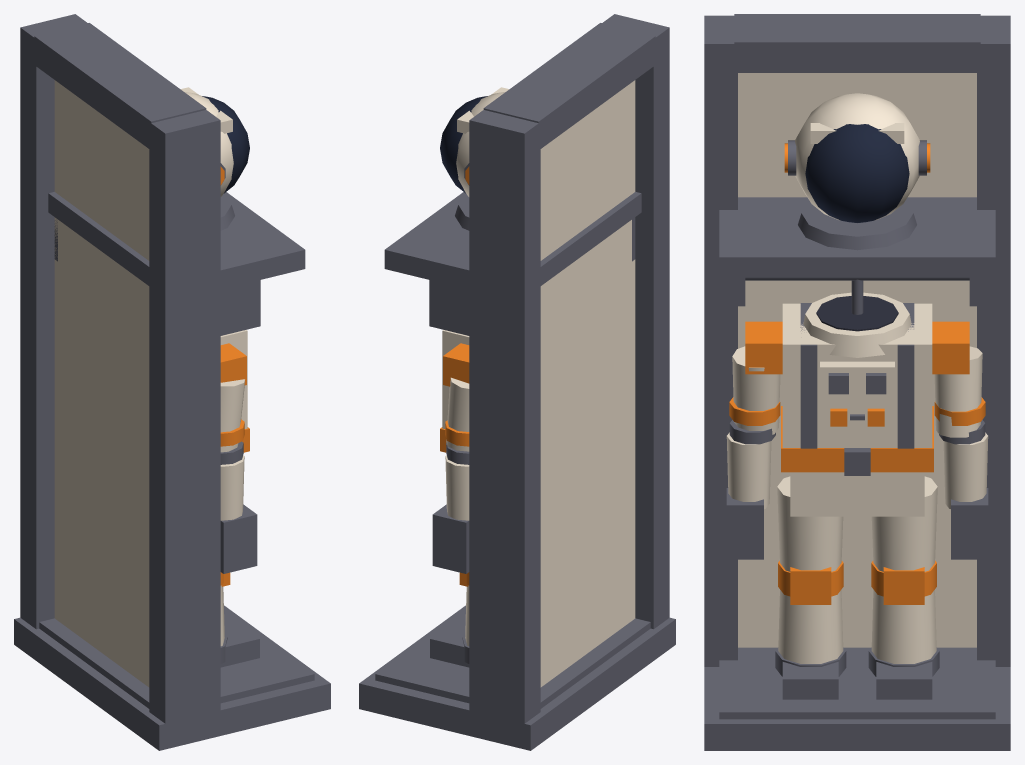
Rendered from asset.glb.
The picture shows the model from 3 angles, left to right: view 1: azimuth 30°, elevation 25°; view 2: azimuth 150°, elevation 25°; view 3: azimuth 270°, elevation 25°; orthographic projection. The views are drawn at different scales.
Visible parts, largest first — view 1: Mesh_BackPlate, Mesh_PostRight, Mesh_PostLeft, Mesh_BasePlinth, Mesh_TopCrossbar, Mesh_ShelfSlab, Mesh_BaseStep, Mesh_Glove_R, Mesh_BracketRight, Mesh_Forearm_R, Mesh_Boot_R, Mesh_UpperArm_R (+4 smaller); view 2: Mesh_BackPlate, Mesh_PostLeft, Mesh_PostRight, Mesh_BasePlinth, Mesh_TopCrossbar, Mesh_ShelfSlab, Mesh_BaseStep, Mesh_Glove_L, Mesh_BracketLeft, Mesh_Forearm_L, Mesh_Boot_L, Mesh_HelmetVisor (+4 smaller); view 3: Mesh_BackPlate, Mesh_PostRight, Mesh_PostLeft, Mesh_ShelfSlab, Mesh_TopCrossbar, Mesh_BaseStep, Mesh_BasePlinth, Mesh_SuitTorso, Mesh_HelmetVisor, Mesh_Pelvis, Mesh_HelmetShell, Mesh_ChestPack (+34 smaller).
Boxes of the visible parts, box(x1,y1,x2,y2) form: Mesh_BackPlate: box(54, 80, 149, 687); Mesh_PostRight: box(149, 110, 220, 723); Mesh_PostLeft: box(20, 14, 87, 629); Mesh_BasePlinth: box(14, 605, 330, 750); Mesh_TopCrossbar: box(34, 23, 206, 148); Mesh_ShelfSlab: box(48, 192, 305, 289); Mesh_BaseStep: box(39, 608, 314, 708); Mesh_Glove_R: box(220, 504, 257, 573); Mesh_BracketRight: box(220, 280, 260, 335); Mesh_Forearm_R: box(220, 455, 244, 520); Mesh_Boot_R: box(220, 619, 259, 667); Mesh_UpperArm_R: box(220, 379, 244, 452); Mesh_BackPlate: box(540, 80, 635, 687); Mesh_PostLeft: box(469, 110, 540, 723); Mesh_PostRight: box(602, 14, 669, 629); Mesh_BasePlinth: box(359, 605, 675, 750); Mesh_TopCrossbar: box(483, 23, 655, 148); Mesh_ShelfSlab: box(384, 192, 641, 289); Mesh_BaseStep: box(375, 608, 650, 708); Mesh_Glove_L: box(432, 504, 469, 573); Mesh_BracketLeft: box(429, 280, 469, 335); Mesh_Forearm_L: box(445, 455, 469, 520); Mesh_Boot_L: box(430, 619, 469, 667); Mesh_HelmetVisor: box(440, 96, 487, 193); Mesh_BackPlate: box(738, 73, 976, 647); Mesh_PostRight: box(704, 15, 737, 666); Mesh_PostLeft: box(977, 15, 1010, 666); Mesh_ShelfSlab: box(719, 197, 995, 277); Mesh_TopCrossbar: box(734, 14, 980, 72); Mesh_BaseStep: box(719, 647, 995, 719); Mesh_BasePlinth: box(704, 667, 1010, 750); Mesh_SuitTorso: box(782, 303, 932, 447); Mesh_HelmetVisor: box(805, 124, 909, 222); Mesh_Pelvis: box(790, 472, 924, 516); Mesh_HelmetShell: box(795, 93, 919, 220); Mesh_ChestPack: box(820, 361, 894, 434).
Bounding box in the file's own units: 0.56 × 1.93 × 0.82.
